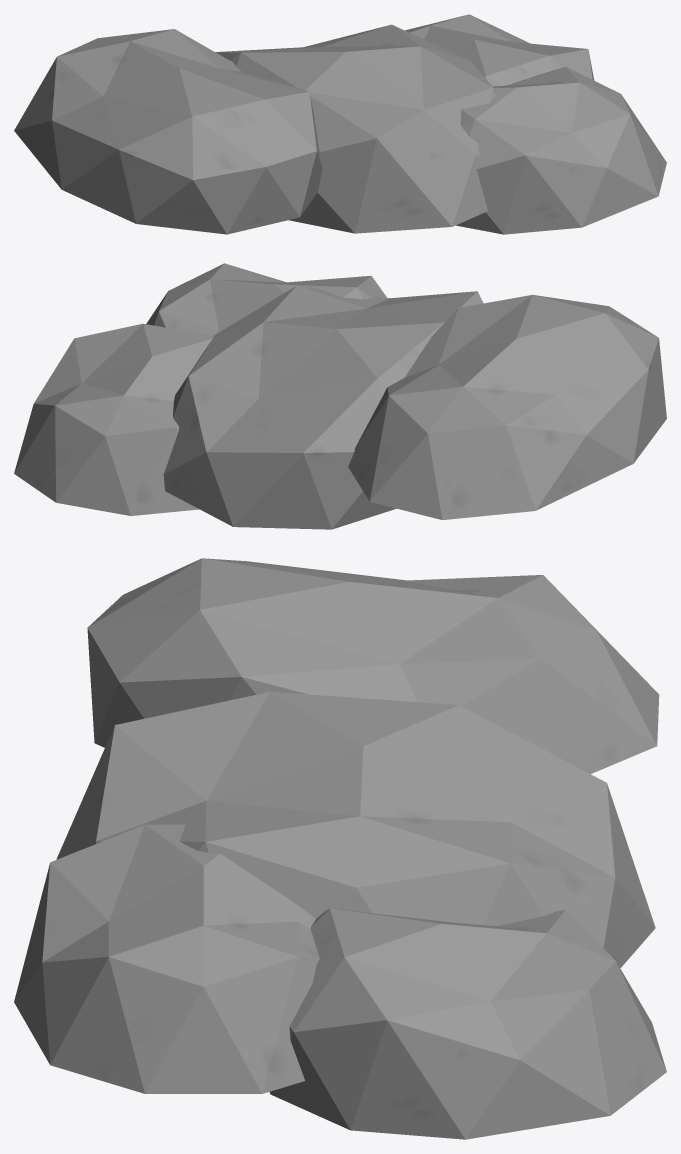
The model's file is Grave1.gltf.
The picture shows the model from 3 angles, top to bottom: view 1: azimuth 30°, elevation 25°; view 2: azimuth 150°, elevation 25°; view 3: azimuth 270°, elevation 25°; orthographic projection. The views are drawn at different scales.
Visible parts, largest first — view 1: Vlakgraf; view 2: Vlakgraf; view 3: Vlakgraf.
Part boxes in pixels (x1,y1,x2,y2): Vlakgraf: [14, 14, 666, 234]; Vlakgraf: [14, 263, 666, 529]; Vlakgraf: [14, 558, 666, 1139].
Bounding box in the file's own units: 3.82 × 1.1 × 2.66.
Materials: 1 (1 with a texture image).
